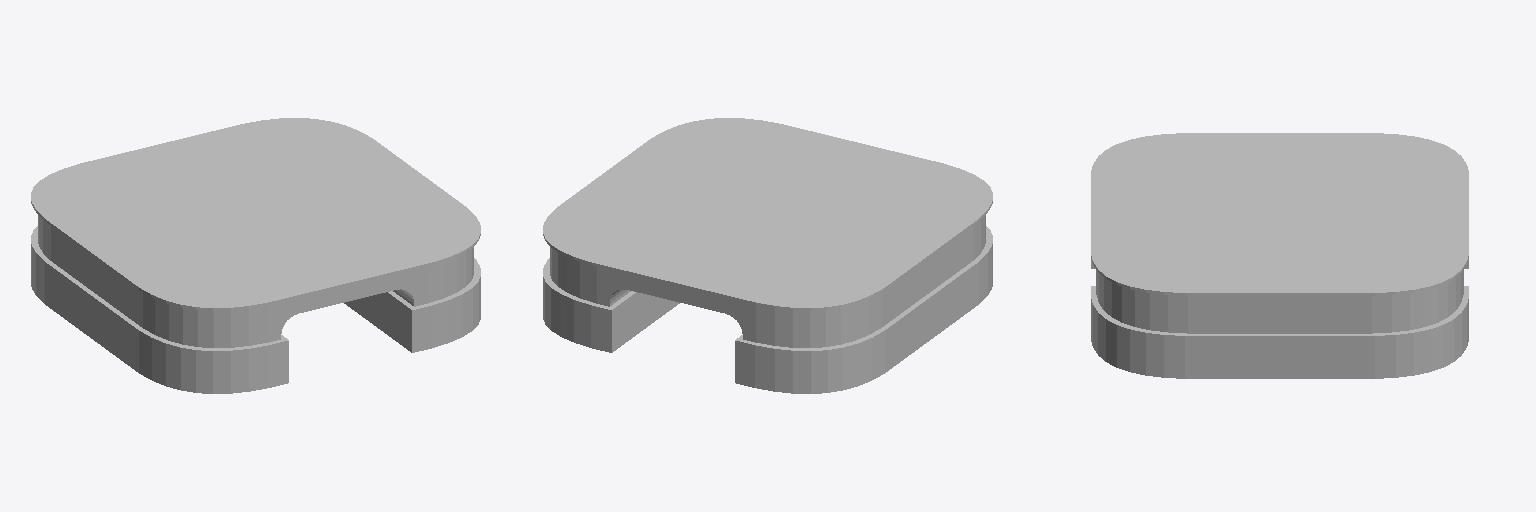
File: buildflatbig.obj
The picture shows the model from 3 angles: view 1: azimuth 30°, elevation 25°; view 2: azimuth 150°, elevation 25°; view 3: azimuth 270°, elevation 25°; orthographic projection.
Parts seen in each view (by area): view 1: building; view 2: building; view 3: building.
Part boxes in pixels (bbox=[...]): building: bbox=[31, 118, 480, 393]; building: bbox=[543, 118, 992, 393]; building: bbox=[1091, 133, 1468, 378].
Size of the model in its own units: 2048 by 512 by 2048.